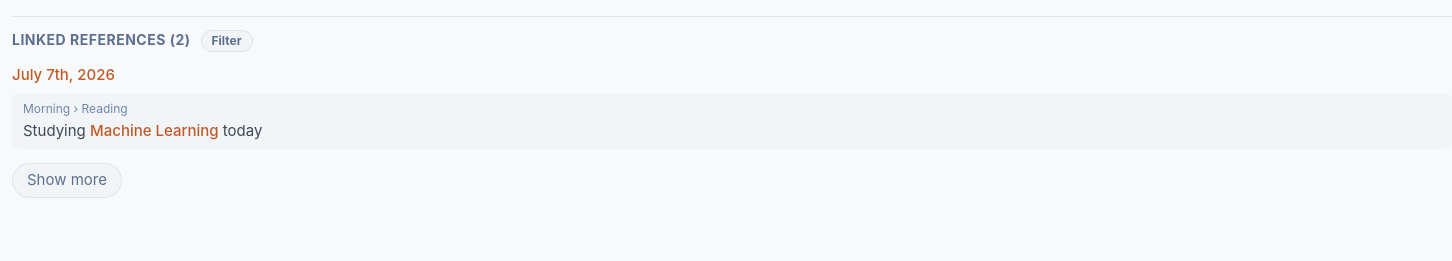
Test: shows an error and re-enables the button when show-more fails
Click the button "Show more" at (67, 180), box [12,163,122,198]
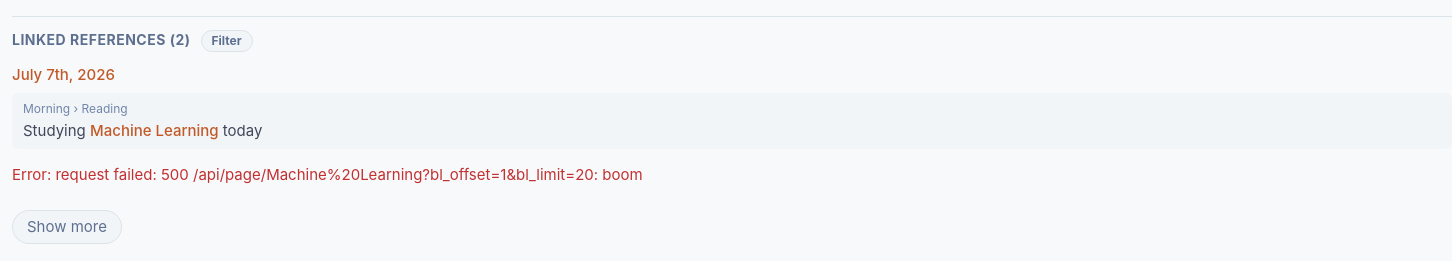
Expected: the button "Show more" is enabled, [12,210,122,244]
Now the text "500" is shown, box [12,165,643,184]
